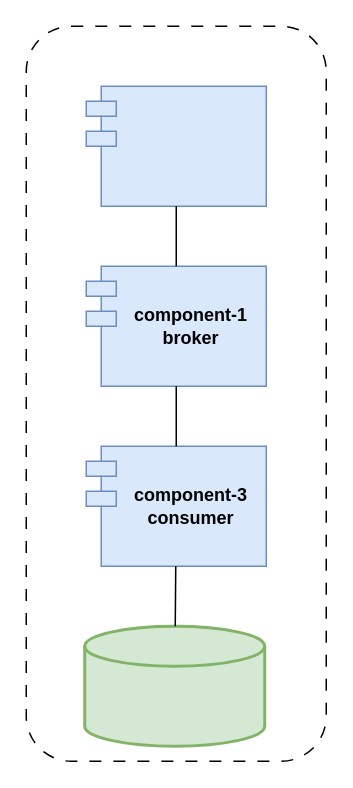
Image size: 353x788. Some labels were removed from this diagram. The shapes that lost their labels are listed below. From the top down, each one's centre as x and y in pixels, then its label:
At (x=175, y=145): "component-2 producer".
At (x=174, y=685): "component-4 mongo".
